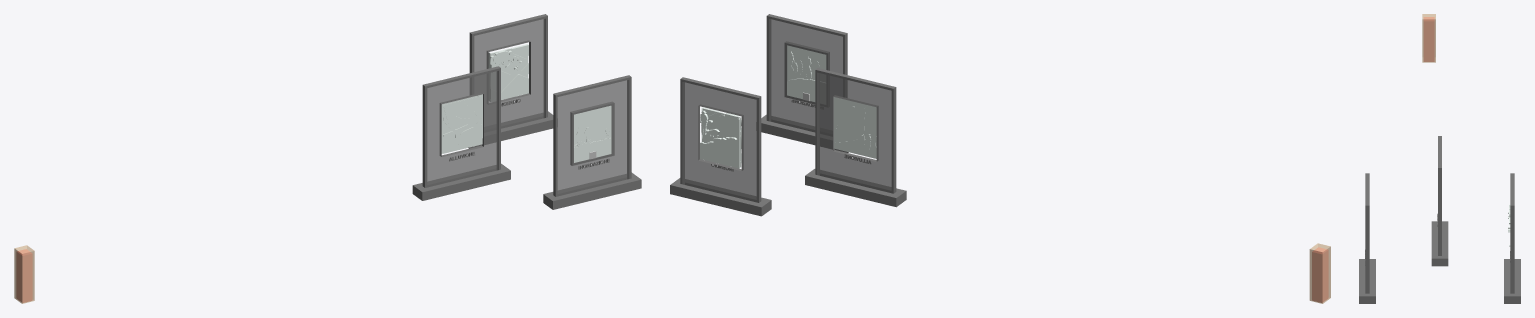
File: planar_g2.obj
The picture shows the model from 3 angles, left to right: view 1: azimuth 30°, elevation 25°; view 2: azimuth 150°, elevation 25°; view 3: azimuth 270°, elevation 25°; orthographic projection. The views are drawn at different scales.
Visible parts, largest first — view 1: Mesh1 Model, Mesh4 Model, Mesh3 Model, Mesh5 Model, Mesh2 Model; view 2: Mesh4 Model, Mesh1 Model, Mesh3 Model, Mesh5 Model, Mesh2 Model; view 3: Mesh1 Model, Mesh3 Model, Mesh4 Model, Mesh2 Model.
Boxes of the visible parts, x1,y1,x2,y2 form: Mesh1 Model: (543, 75, 641, 209); Mesh4 Model: (412, 66, 510, 200); Mesh3 Model: (468, 14, 553, 148); Mesh5 Model: (488, 44, 528, 101); Mesh2 Model: (14, 245, 34, 303); Mesh4 Model: (805, 68, 906, 207); Mesh1 Model: (761, 14, 848, 152); Mesh3 Model: (670, 77, 771, 216); Mesh5 Model: (700, 107, 741, 168); Mesh2 Model: (1309, 243, 1330, 303); Mesh1 Model: (1359, 173, 1375, 303); Mesh3 Model: (1504, 173, 1520, 303); Mesh4 Model: (1431, 136, 1448, 266); Mesh2 Model: (1422, 14, 1435, 62).
Size of the model in its own units: 10.88 by 1.97 by 3.01.
